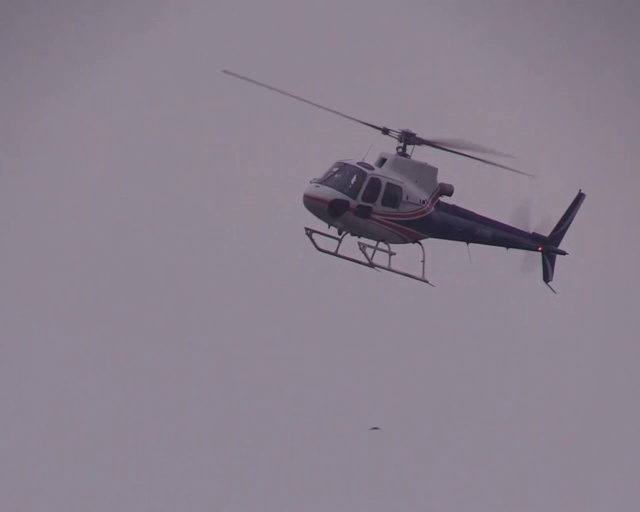HELICOPTER: (217, 69, 594, 290)
